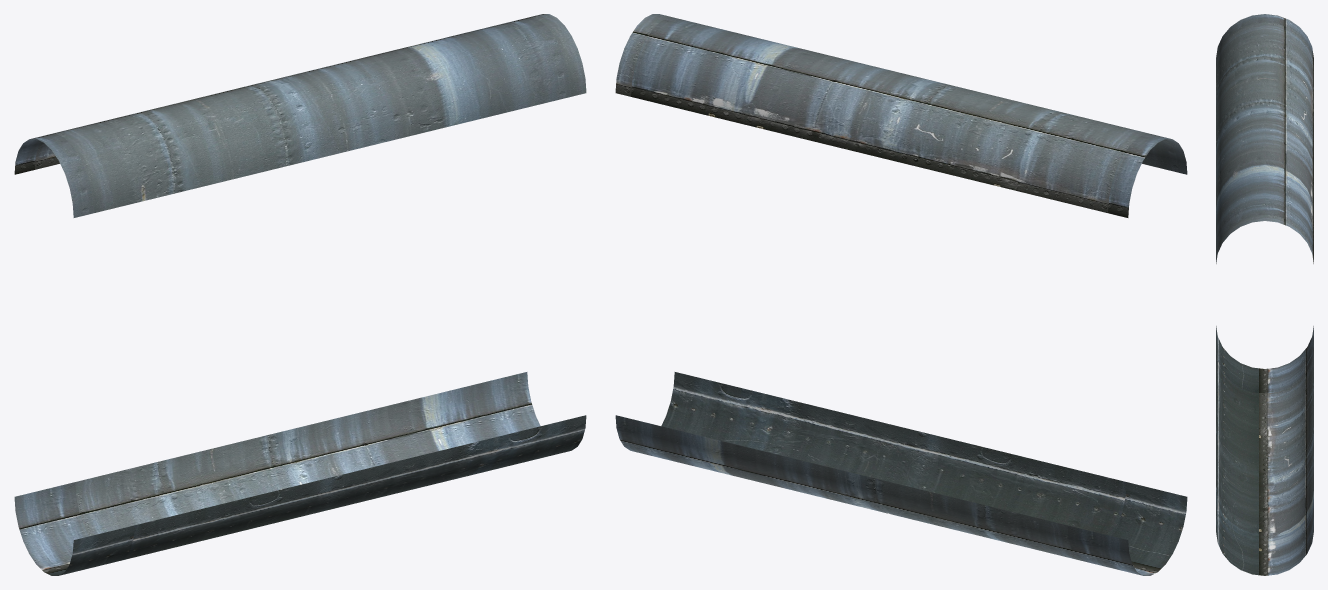
Rendered from bulk.FBX.
3 views of the same model, side by side, from view 1: azimuth 30°, elevation 25°; view 2: azimuth 150°, elevation 25°; view 3: azimuth 270°, elevation 25° (orthographic). The views are drawn at different scales.
Parts seen in each view (by area): view 1: Cylinder002; view 2: Cylinder002; view 3: Cylinder002.
Boxes of the visible parts, box(x1,y1,x2,y2) form: Cylinder002: box(14, 14, 586, 575); Cylinder002: box(615, 14, 1187, 575); Cylinder002: box(1216, 14, 1313, 575).
Size of the model in its own units: 500 by 400 by 100.
1 material, 1 textured.
